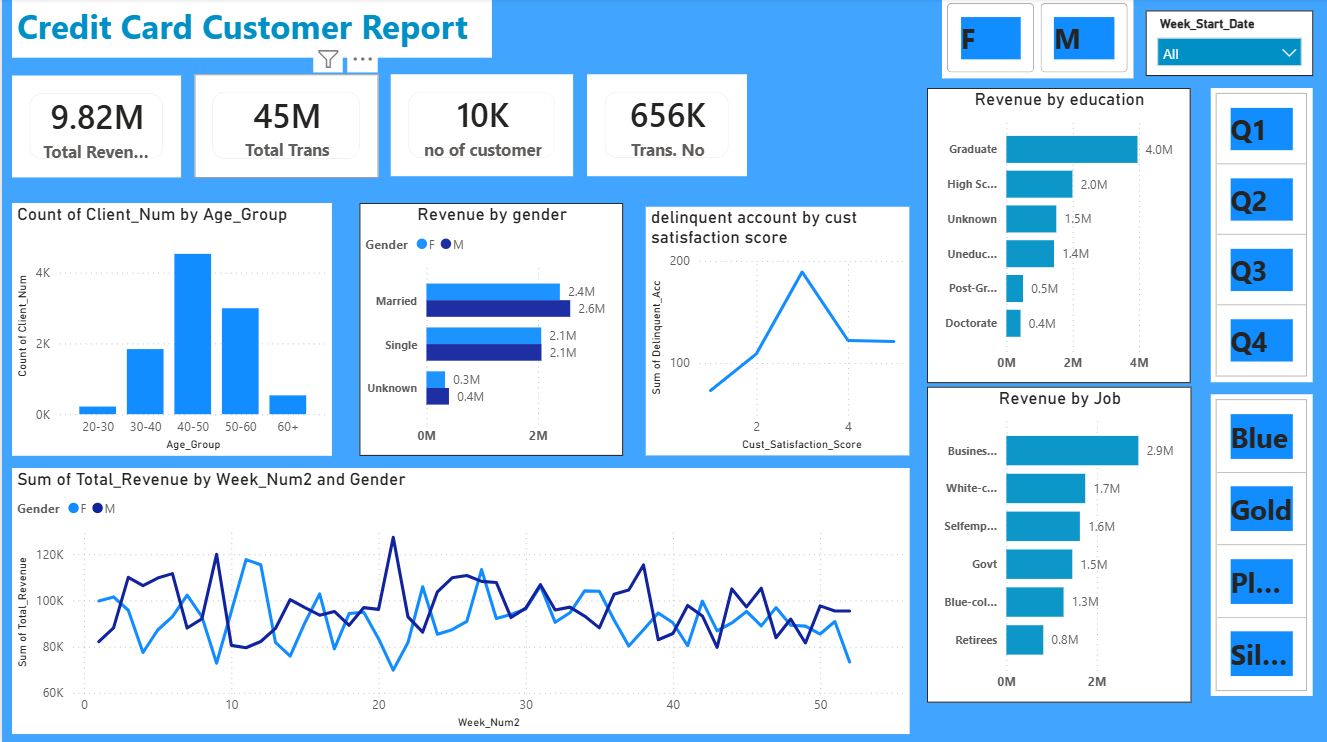

This screenshot's page, from the dashboard's own definition file:
{"tool":"powerbi","page":{"name":"Credit Card Customer Report","canvas":[1280,720],"ordinal":1},"visuals":[{"type":"textbox","box":[9.8,0,463.5,57.5],"z":0},{"type":"slicer","fields":{"Values":["credit_card.Week_Start_Date"]},"box":[1103.7,11.5,161.6,63.5],"z":1000},{"type":"barChart","title":"Revenue by Job","fields":{"Y":["Sum(credit_card.Total_Revenue)"],"Category":["customer.Customer_Job"]},"box":[893.1,375.1,255.4,304.4],"z":2000},{"type":"cardVisual","fields":{"Data":["Sum(credit_card.Total_Revenue)"]},"box":[10.1,75,163,98.1],"z":3000},{"type":"cardVisual","fields":{"Data":["Sum(credit_card.Total_Trans_Amt)"]},"box":[186.1,73.6,177.5,99.6],"z":4000},{"type":"cardVisual","fields":{"Data":["CountNonNull(customer.Client_Num)"]},"box":[375.1,73.6,176,98.1],"z":5000},{"type":"cardVisual","fields":{"Data":["Sum(credit_card.Total_Trans_Vol)"]},"box":[564.1,73.6,154.4,98.1],"z":6000},{"type":"advancedSlicerVisual","fields":{"Values":["credit_card.Qtr"]},"box":[1167.2,86.6,98.1,284.2],"z":7000},{"type":"advancedSlicerVisual","fields":{"Values":["customer.Gender"]},"box":[907.5,0,184.7,77.9],"z":8000},{"type":"advancedSlicerVisual","fields":{"Values":["credit_card.Card_Category"]},"box":[1167.2,382.3,98.1,291.4],"z":9000},{"type":"barChart","title":"Revenue by education","fields":{"Y":["Sum(credit_card.Total_Revenue)"],"Category":["customer.Education_Level"]},"box":[892.8,86.9,254.6,284.7],"z":10000},{"type":"lineChart","title":"delinquent account by cust satisfaction score","fields":{"Y":["Sum(credit_card.Delinquent_Acc)"],"Category":["customer.Cust_Satisfaction_Score"]},"box":[621.3,201.5,254.6,240.1],"z":11000},{"type":"clusteredBarChart","title":"Revenue by gender","fields":{"Category":["customer.Marital_Status"],"Y":["Sum(credit_card.Total_Revenue)"],"Series":["customer.Gender"]},"box":[345,197.9,254.6,243.7],"z":12000},{"type":"lineChart","fields":{"Y":["Sum(credit_card.Total_Revenue)"],"Series":["customer.Gender"],"Category":["credit_card.Week_Num2"]},"box":[9.7,453.6,866.2,257],"z":12001},{"type":"clusteredColumnChart","fields":{"Y":["CountNonNull(customer.Client_Num)"],"Category":["customer.Age_Group"]},"box":[10.1,197.7,308.8,243.8],"z":12002}]}

Visuals, with their boxes in screenshot pixels (x1, y1, x2, y2), scaled from the page's 1280x720 canvas onto the 1327x742 screenshot:
textbox: rect(10, 0, 491, 59)
slicer - credit_card.Week_Start_Date: rect(1144, 12, 1312, 77)
"Revenue by Job" barChart: rect(926, 387, 1191, 700)
cardVisual - Sum(credit_card.Total_Revenue): rect(10, 77, 179, 178)
cardVisual - Sum(credit_card.Total_Trans_Amt): rect(193, 76, 377, 178)
cardVisual - CountNonNull(customer.Client_Num): rect(389, 76, 571, 177)
cardVisual - Sum(credit_card.Total_Trans_Vol): rect(585, 76, 745, 177)
advancedSlicerVisual - credit_card.Qtr: rect(1210, 89, 1312, 382)
advancedSlicerVisual - customer.Gender: rect(941, 0, 1132, 80)
advancedSlicerVisual - credit_card.Card_Category: rect(1210, 394, 1312, 694)
"Revenue by education" barChart: rect(926, 90, 1190, 383)
"delinquent account by cust satisfaction score" lineChart: rect(644, 208, 908, 455)
"Revenue by gender" clusteredBarChart: rect(358, 204, 622, 455)
lineChart - Sum(credit_card.Total_Revenue) x customer.Gender: rect(10, 467, 908, 732)
clusteredColumnChart - CountNonNull(customer.Client_Num) x customer.Age_Group: rect(10, 204, 331, 455)
